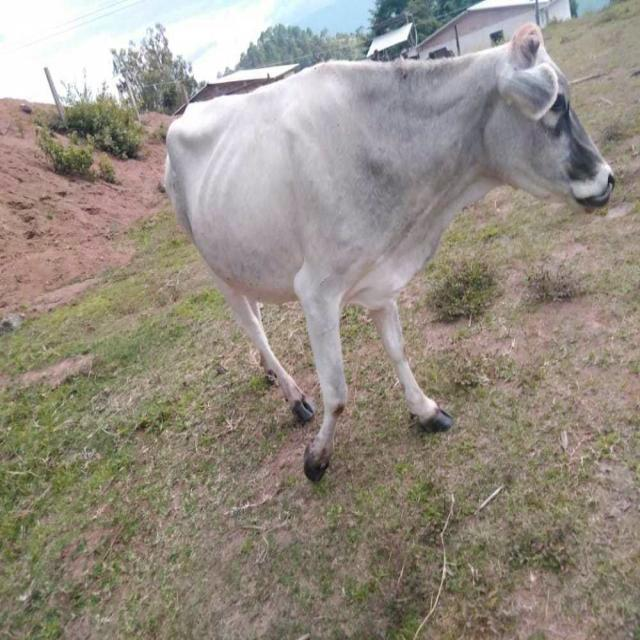cow: (166, 25, 612, 481)
